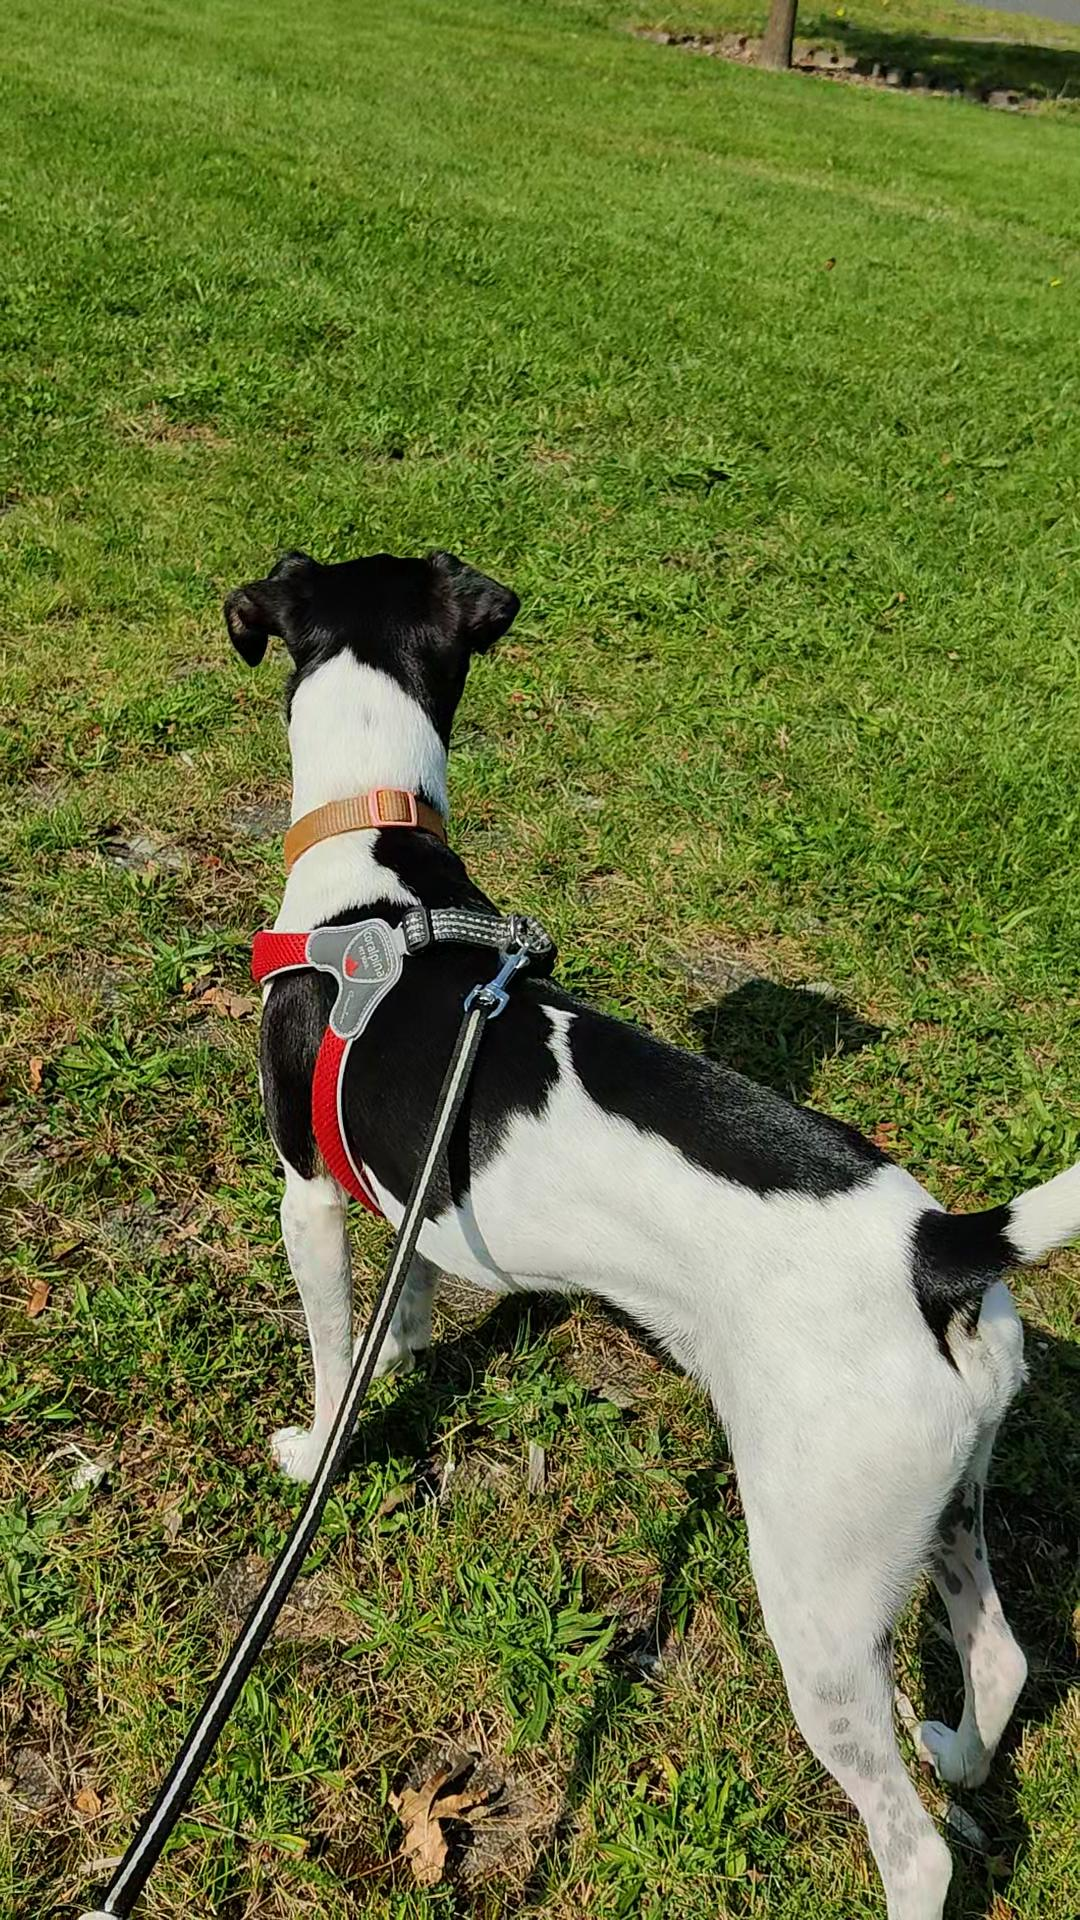Dog: (171, 501, 1079, 1919)
